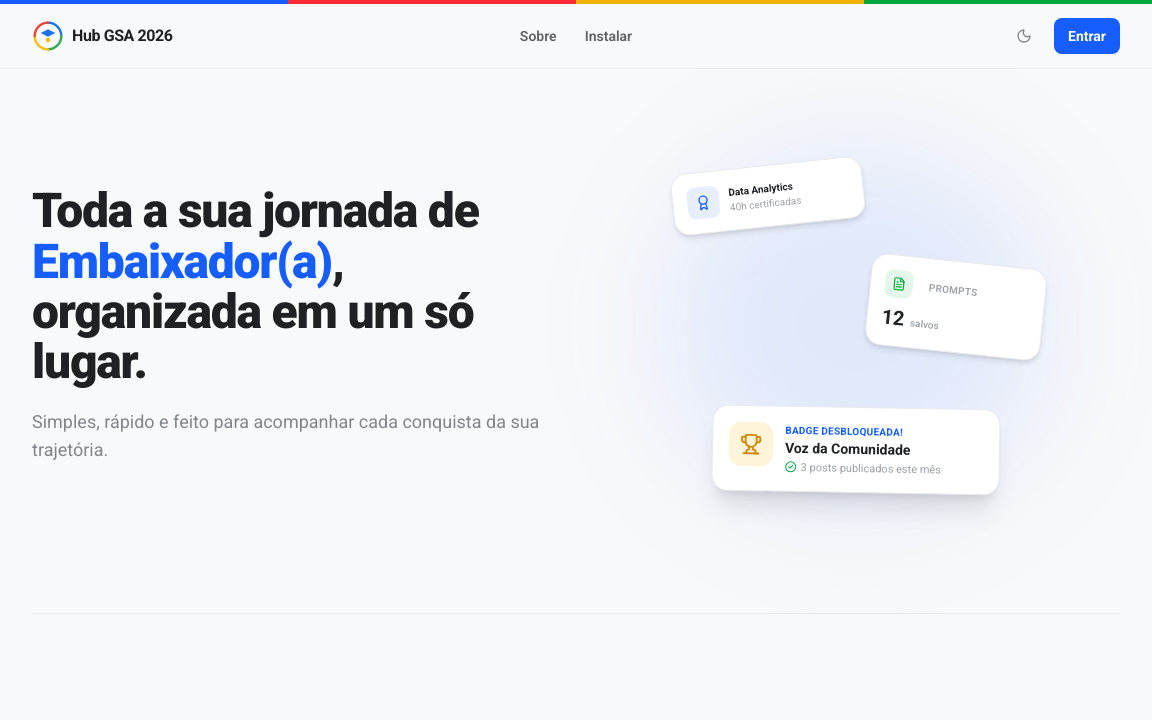
Test: App — authentication gate › shows the auth screen after clicking Entrar
Click the button "Entrar". click: (1087, 36)
box: [1054,18,1120,54]
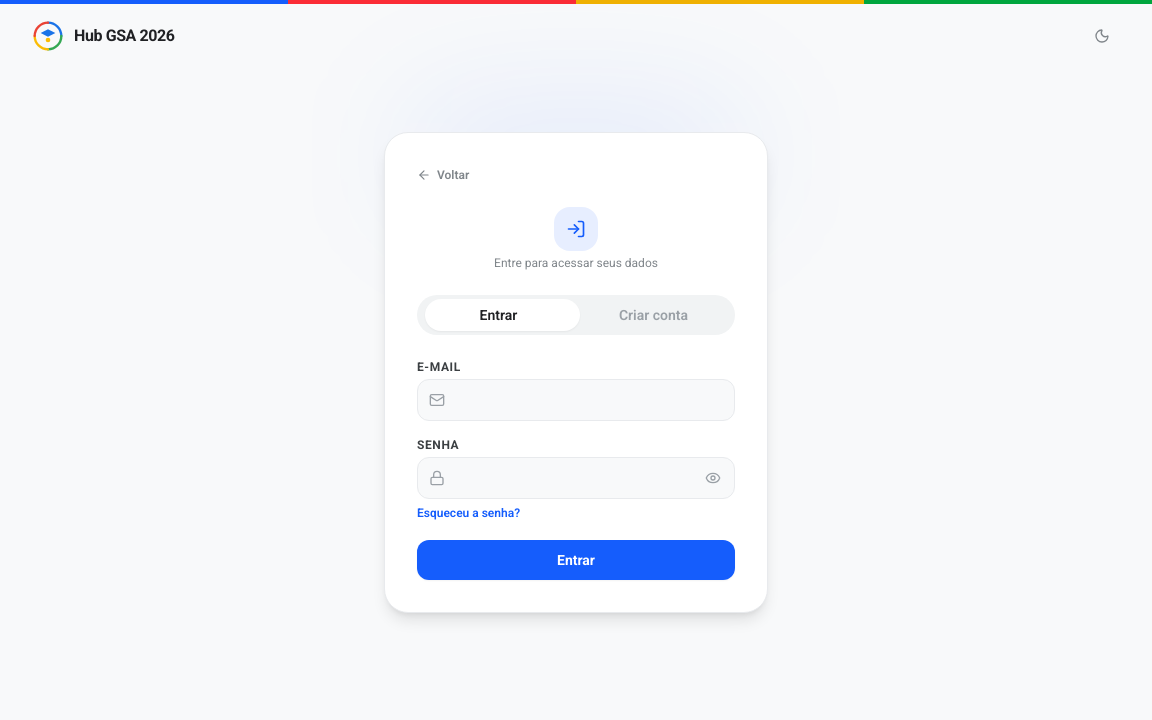
Expected: the text "Entre para acessar seus dados" is shown, [494,256,658,270]
